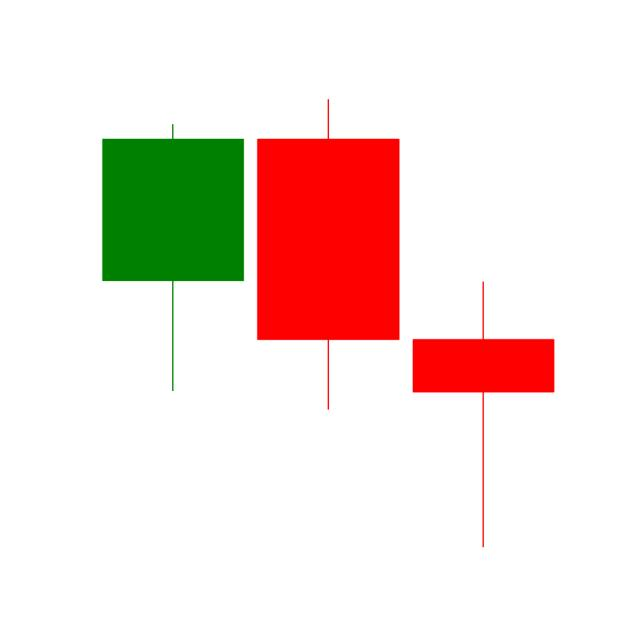Hammer: (96, 119, 251, 397)
